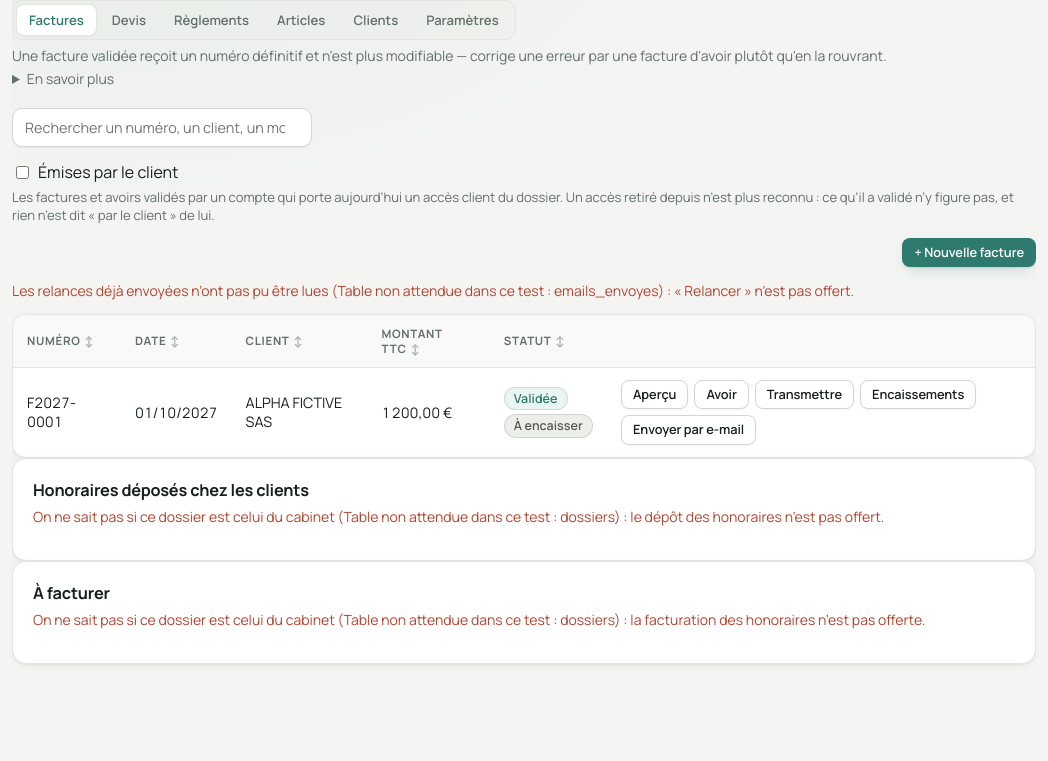
Scenario: Clients dans l’onglet Factures — cabinet › l’article d’exonération du dossier arrive à la vue : un dossier de soins dit sa règle, un autre non
This screenshot has width=1048, height=761.
Expected: the text "F2027-0001" is shown, [27,393,76,431]
Click the tab "Clients" at (376, 20), box [340,4,411,36]
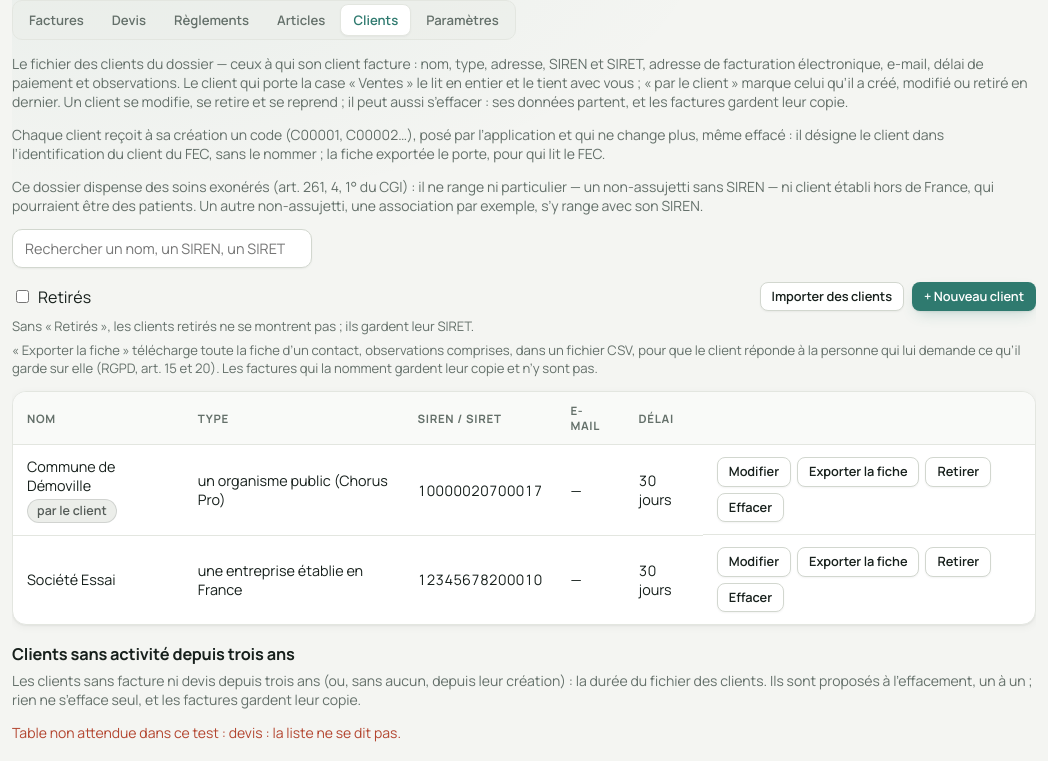
Result: the table named "Clients" is shown at [13,392,1035,624]
Result: the text "soins exonérés (art. 261, 4, 1° du CGI)" is shown at [12,177,994,215]
